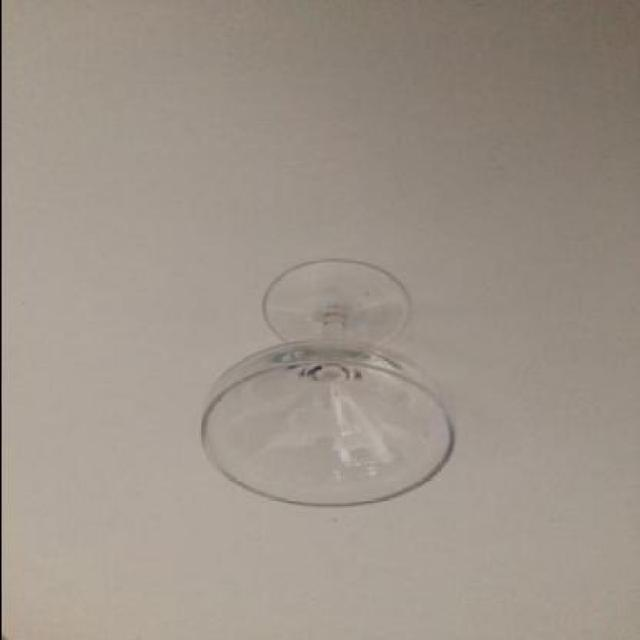glass: (197, 260, 449, 509)
